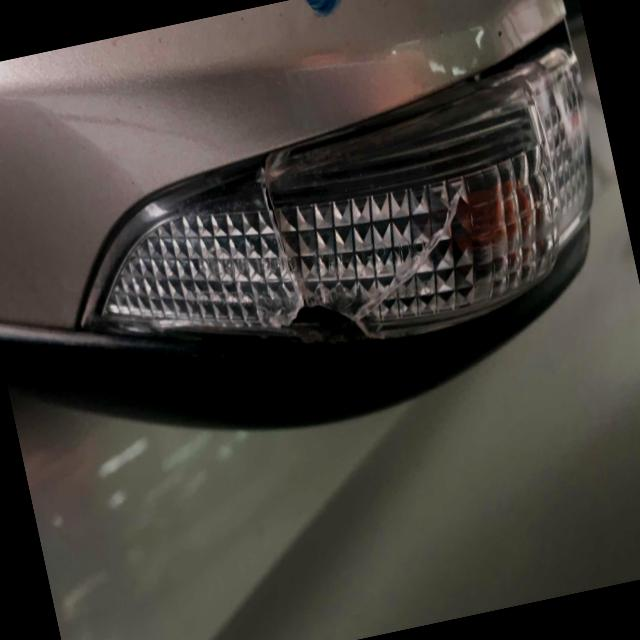Phare abime: (212, 126, 515, 361)
